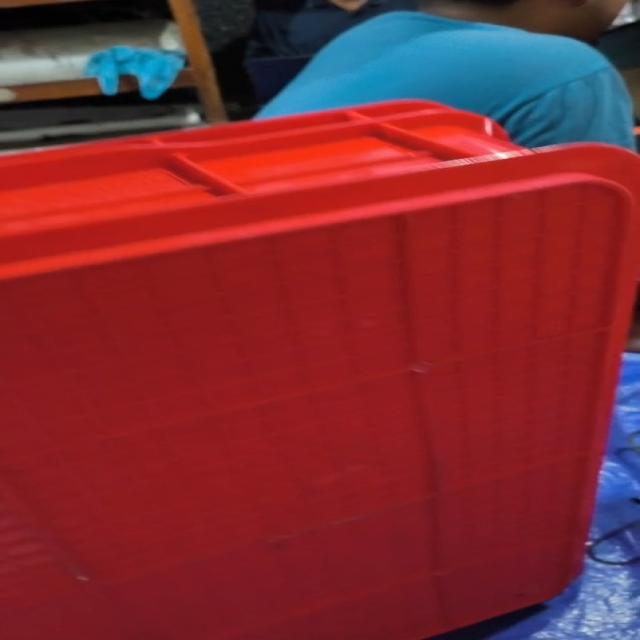red plastic box: (0, 100, 639, 640)
